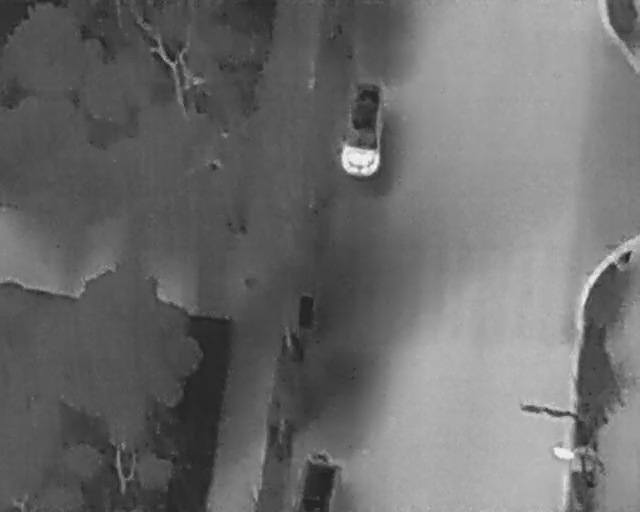Car: (338, 74, 387, 177), (293, 453, 343, 510)
